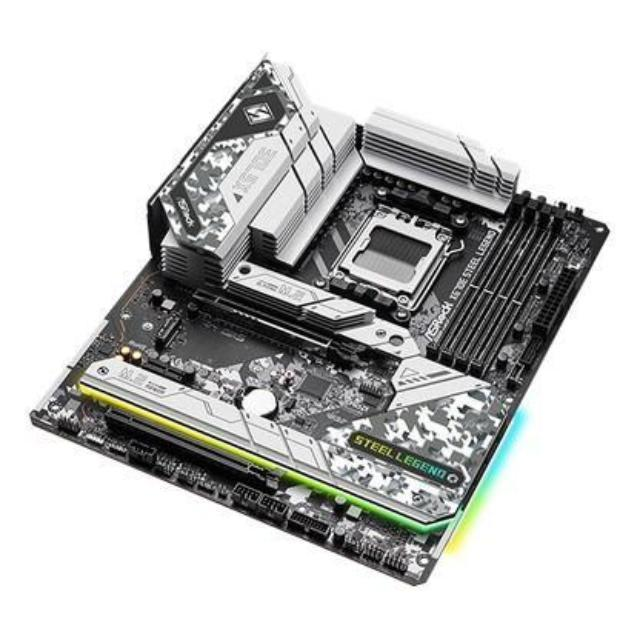Mainboard: (21, 41, 614, 586)
